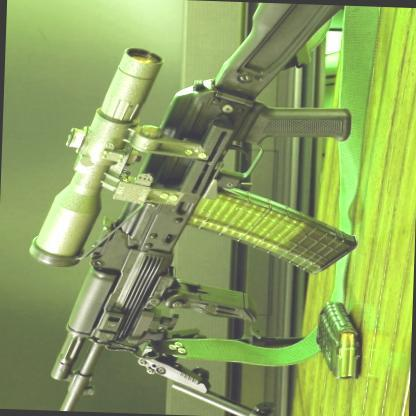rifle: (6, 8, 370, 416)
